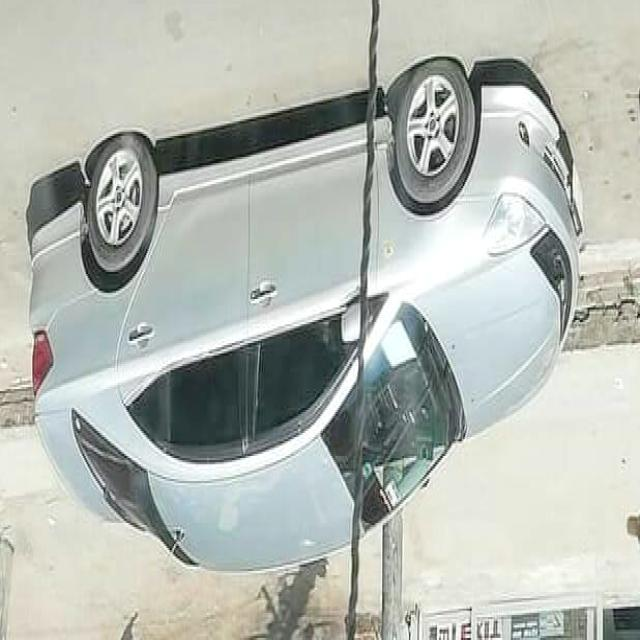silver: (0, 89, 588, 577)
